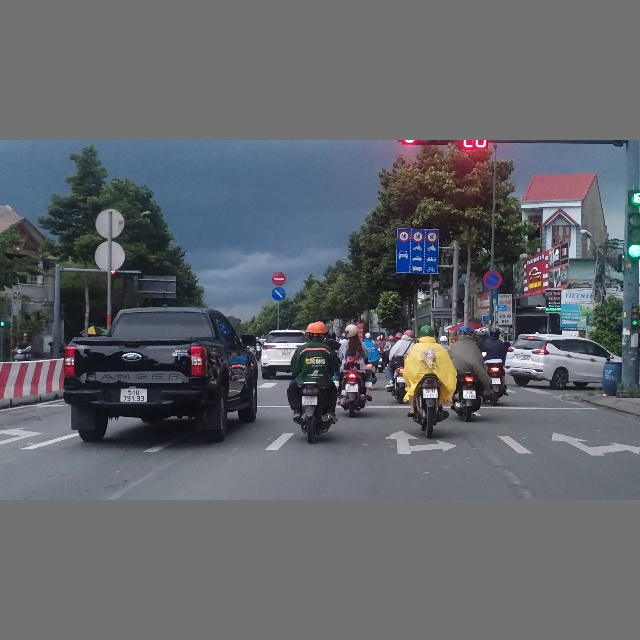P.102: (272, 272, 286, 286)
P.127*60: (412, 230, 424, 242), (427, 231, 437, 242), (399, 231, 409, 241)
P.131a: (483, 270, 502, 289)
R.302a: (272, 287, 286, 301)
R.415a: (396, 243, 438, 274)
